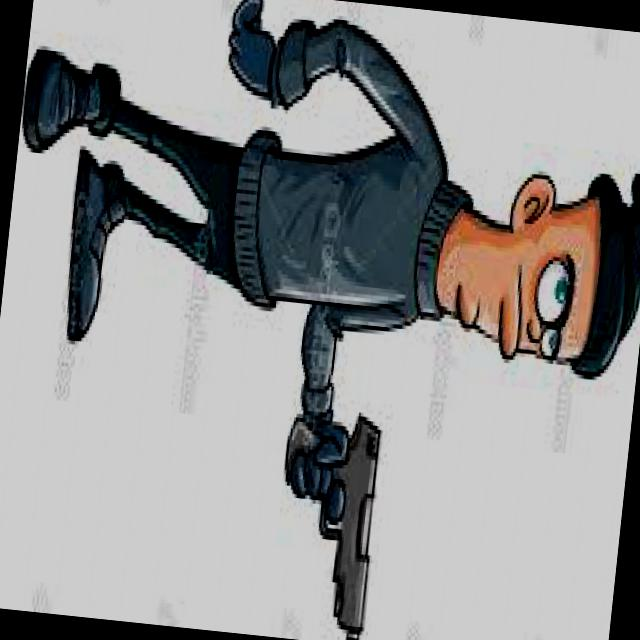handgun: (268, 405, 388, 639)
